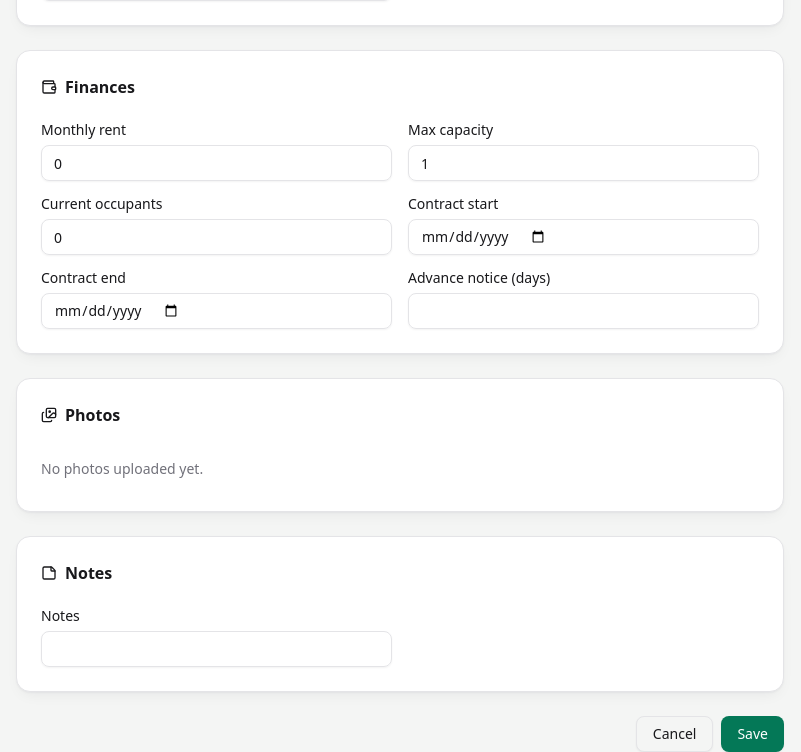
PropertyForm (create) › blocks submit and shows errors when required fields are empty
(page scrolled)
Click the button "Save" at (753, 734), box [721,716,784,751]
(page scrolled)
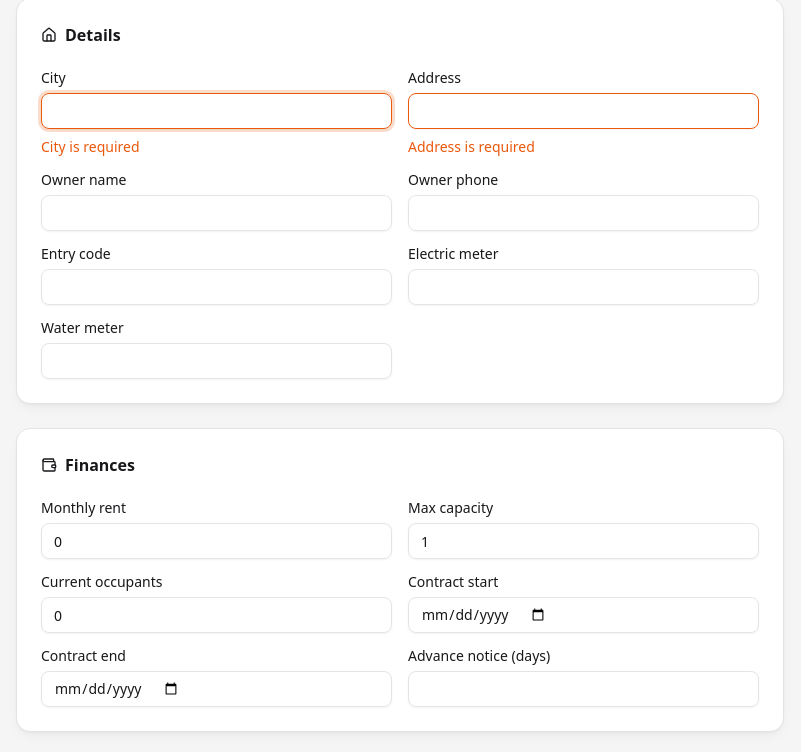
Result: the text "City is required" is shown at [41,137,140,156]
Result: the text "Address is required" is shown at [408,137,535,156]
